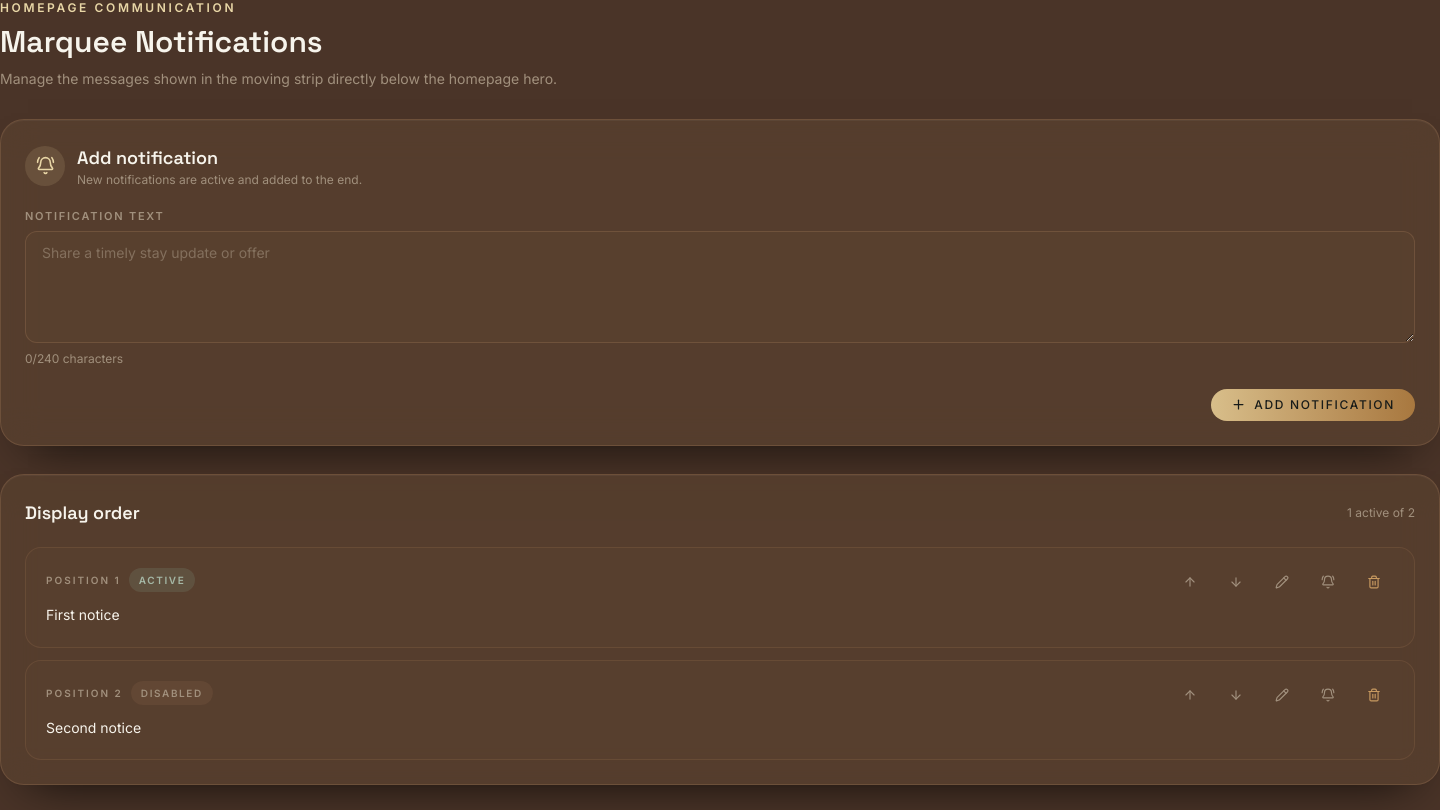
Test: MarqueeNotificationsTab › edits, toggles, reorders, and deletes notifications
Expected: the text "First notice" is shown, [46,606,120,623]
Click the button named "Edit First notice".
click(1282, 582)  # box [1262,568,1302,596]
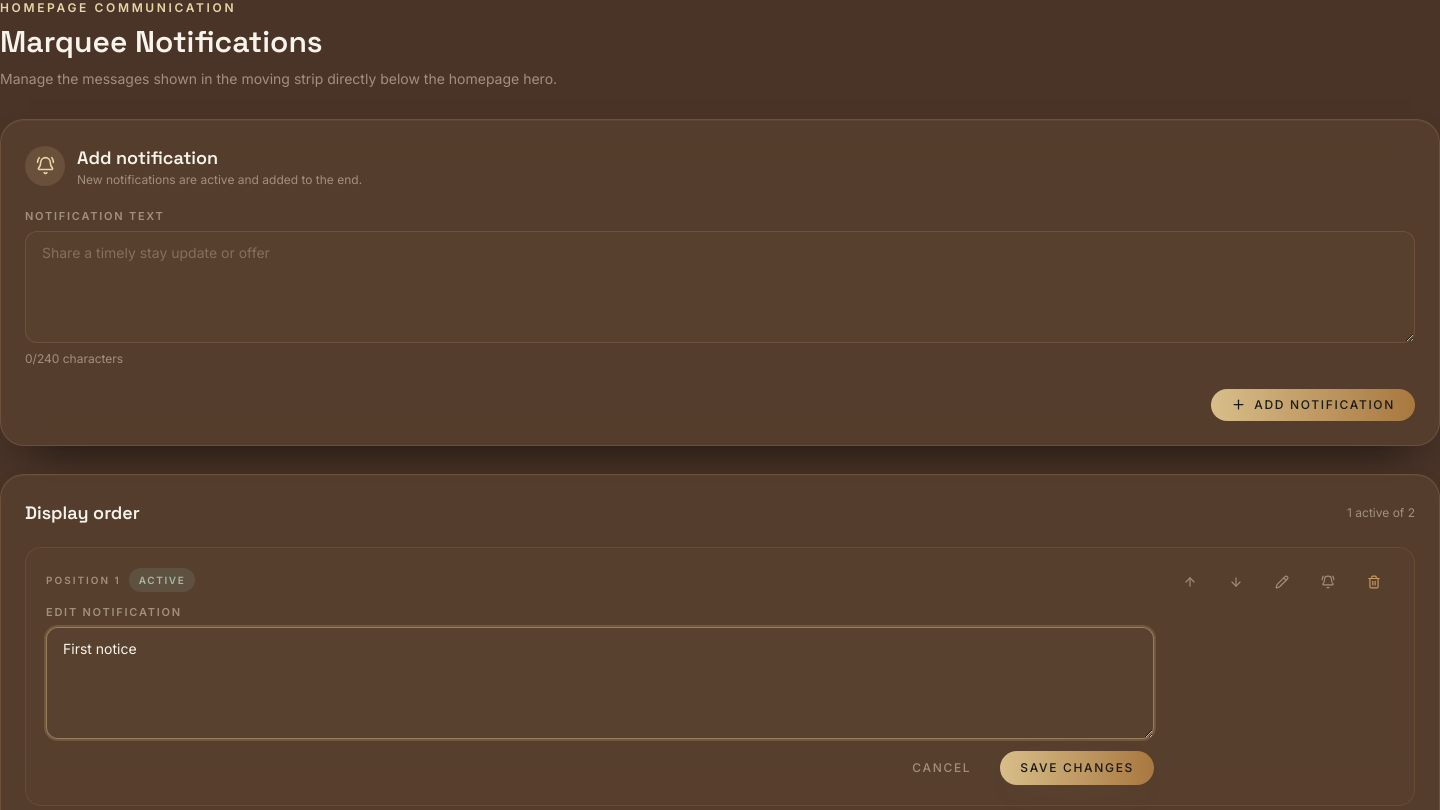
Replace the text in the text box labelled "Edit notification" with "Updated notice" at (600, 683), box [46,627,1154,739]
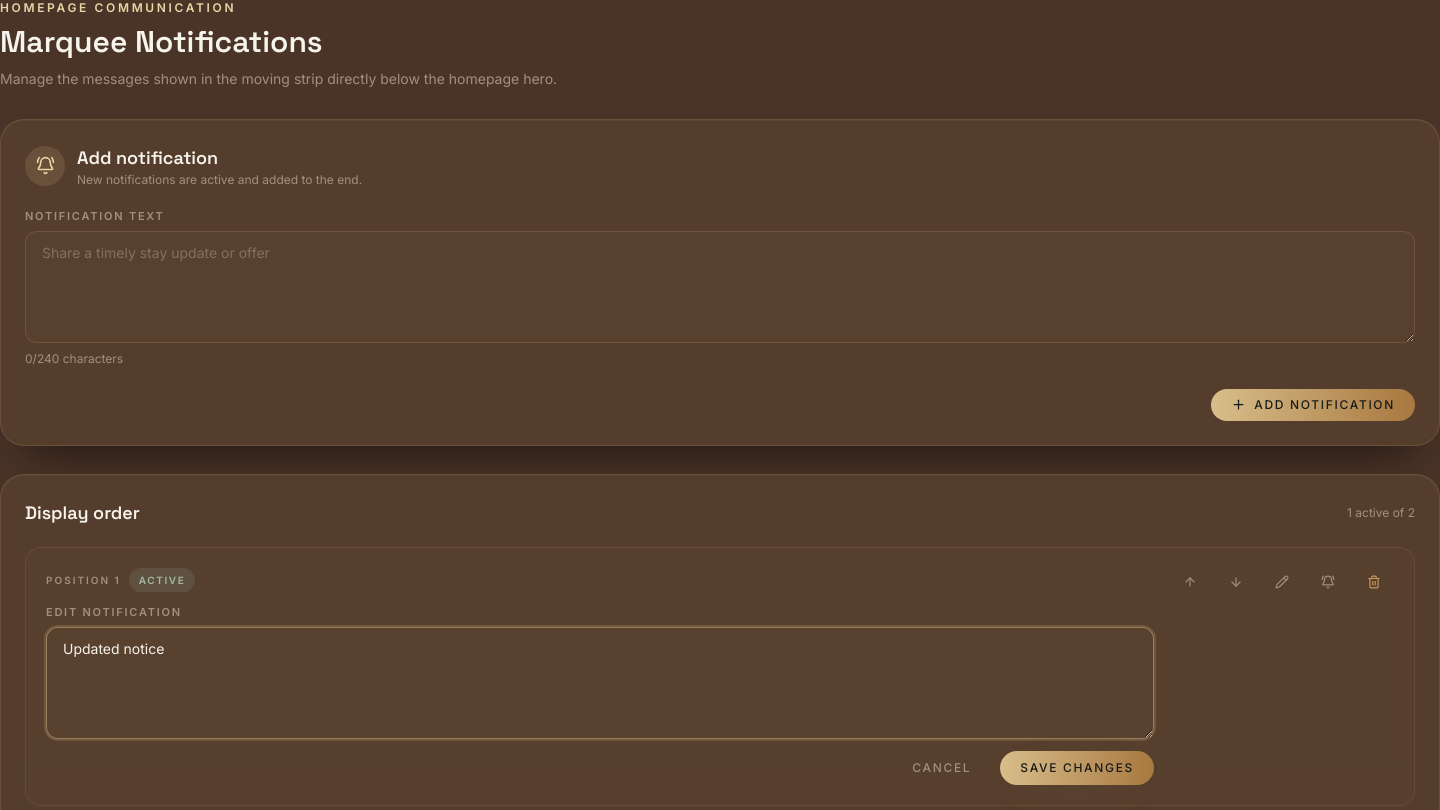
Click the button "Save changes".
click(1077, 768)  # box [1000,751,1154,785]
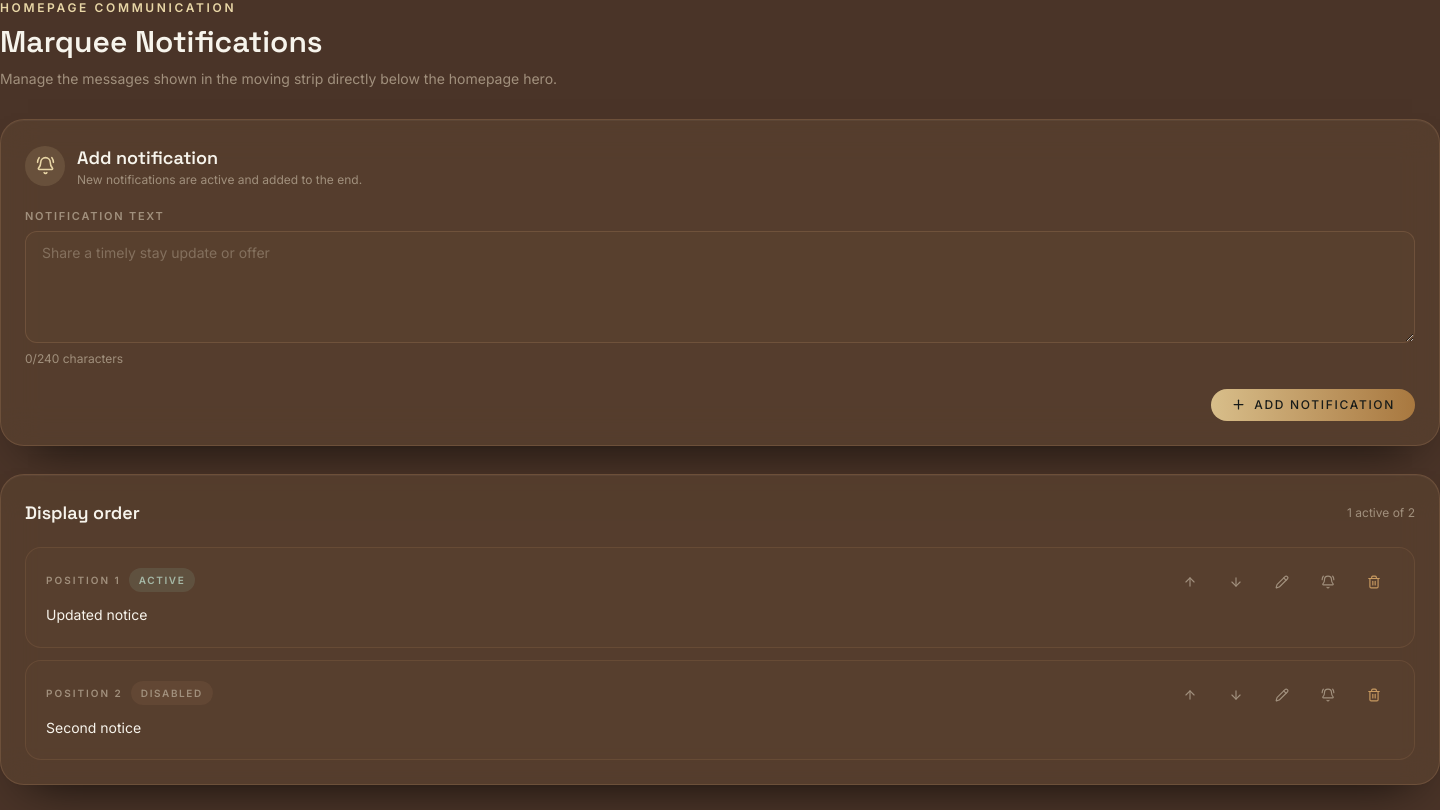
Now the text "Updated notice" is shown, box [46,606,147,623]
Click the button named "Disable Updated notice".
click(1328, 582)  # box [1308,568,1348,596]
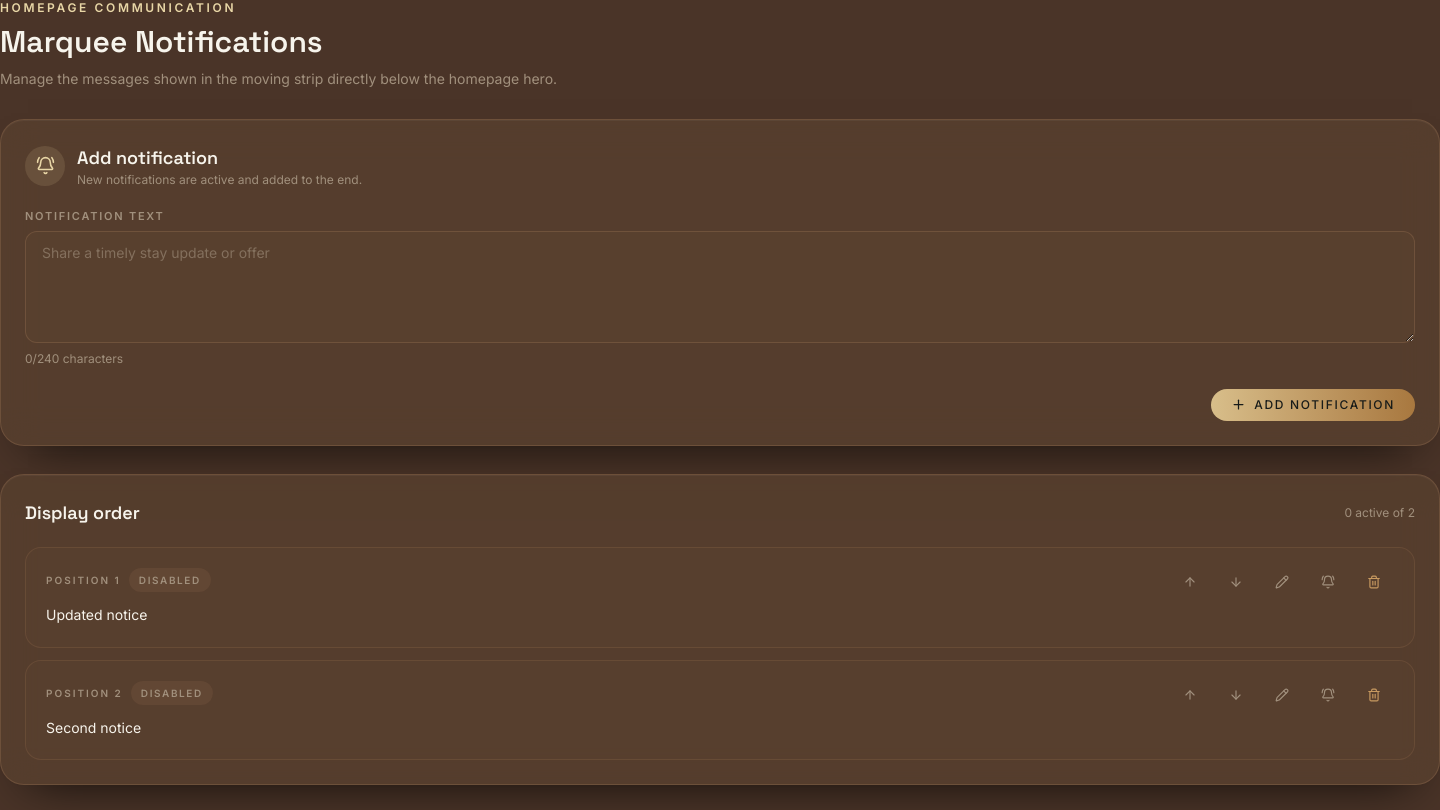
Click the button named "Move Updated notice down".
click(1236, 582)  # box [1216,568,1256,596]
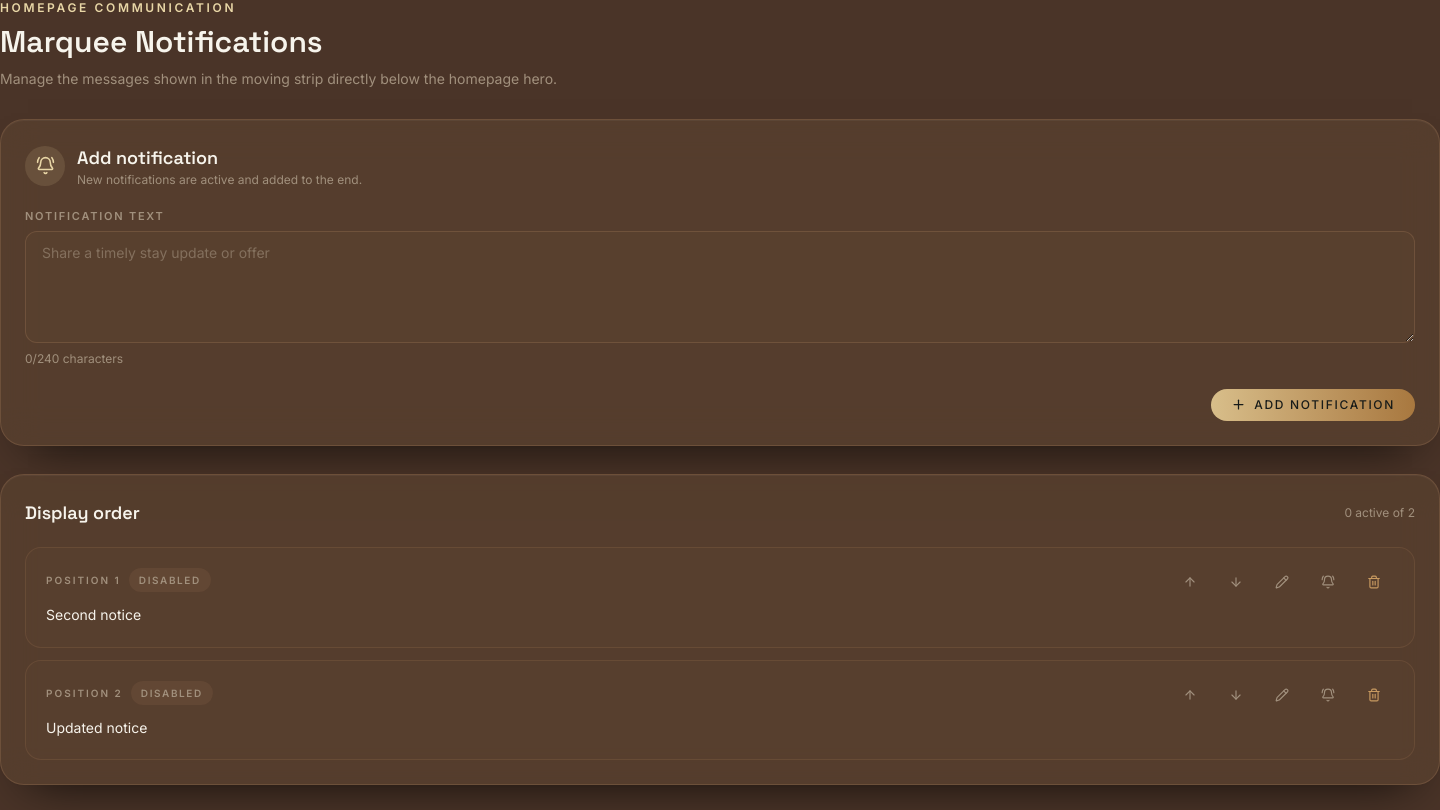
Click the button named "Delete Updated notice".
click(1374, 695)  # box [1354,681,1394,709]
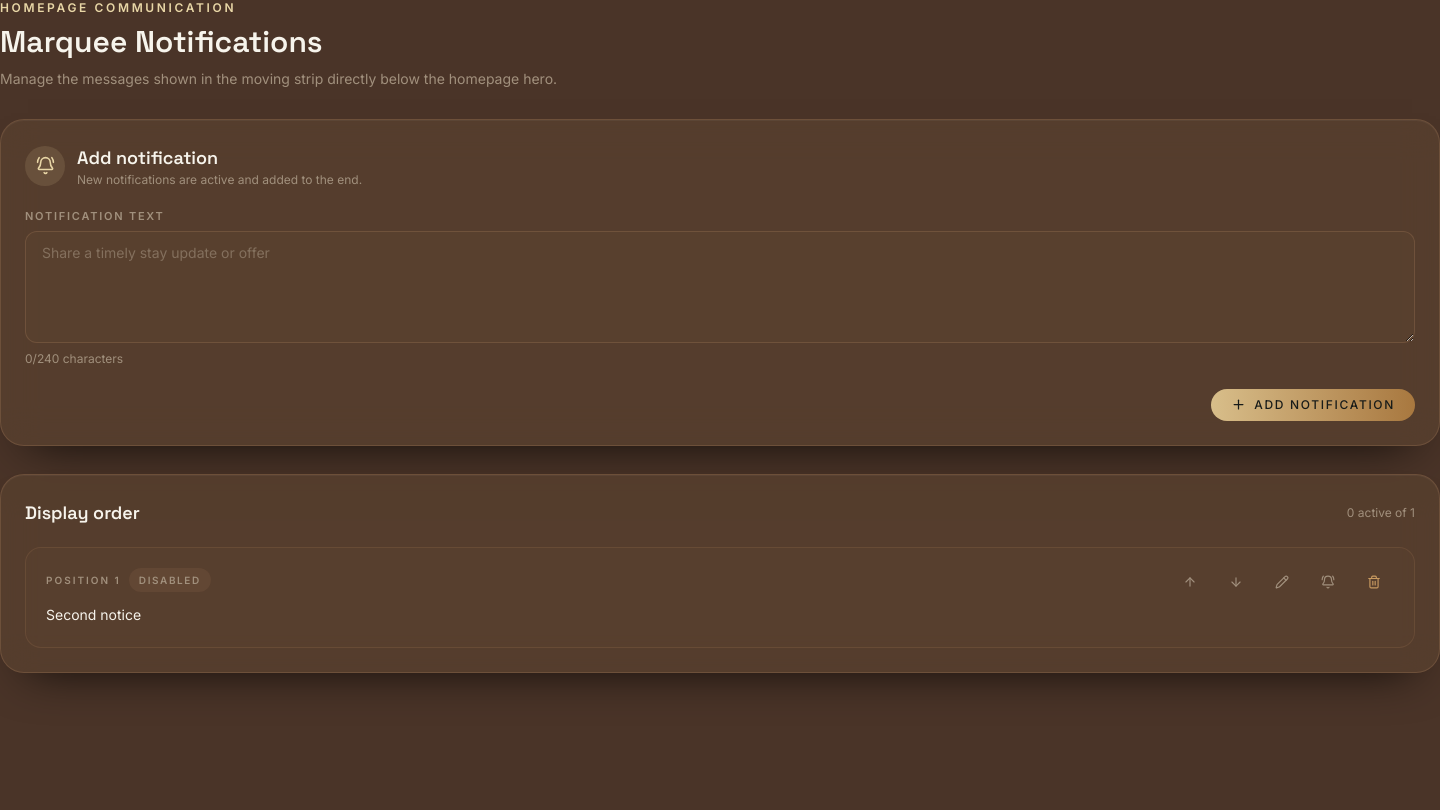
Now the text "Updated notice" is gone
